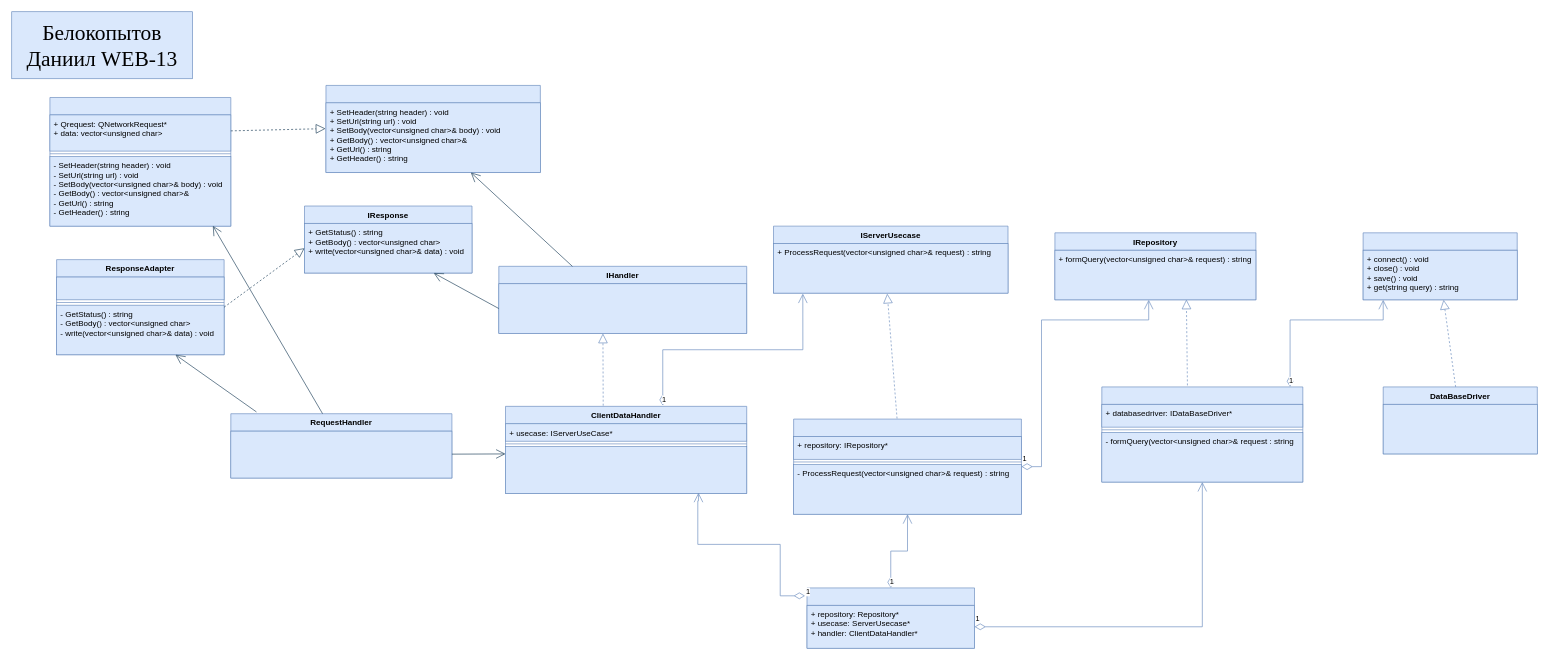
Image size: 1549x662. Some labels were removed from this diagram. The box of each missing label's shape, as (x1, y1, x2, y2) in pixels:
+ Qreply: QNetworkReply*: (56, 276, 224, 300)
+ service(HttpRequest &request, HttpResponse &response) : void: (230, 430, 452, 478)
+ service(IRequest &request, IResponse &response) : void: (498, 283, 747, 333)
- connect() : void - close() : void - save() : void - get(string query) : string: (1383, 404, 1537, 454)
- service(IRequest &request, IResponse &response) : void: (505, 446, 747, 493)
AppRoot: (806, 587, 975, 648)
IDataBaseDriver: (1362, 232, 1517, 300)
IRequest: (325, 85, 540, 173)
Repository: (1101, 386, 1303, 482)
RequestAdapter: (49, 97, 231, 226)
ServerUsecase: (793, 418, 1021, 514)
